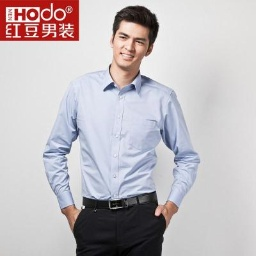face: (109, 3, 160, 72)
